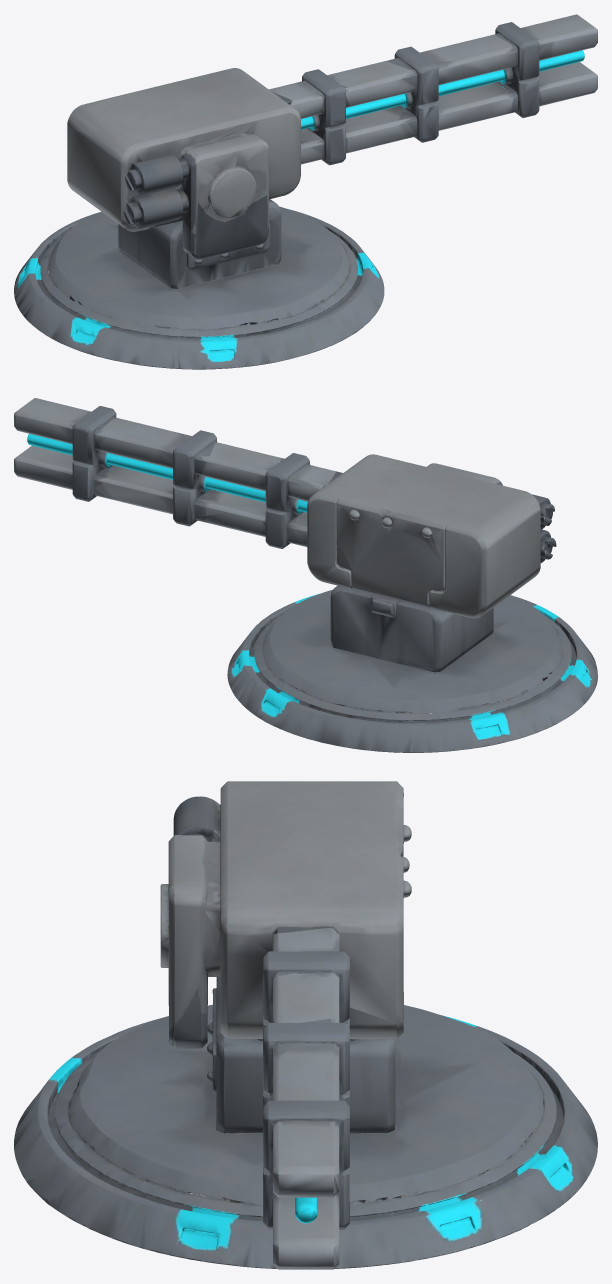
Rendered from town-railgun-full.glb.
3 views of the same model, one above another, from view 1: azimuth 30°, elevation 25°; view 2: azimuth 150°, elevation 25°; view 3: azimuth 270°, elevation 25° (orthographic). The views are drawn at different scales.
Visible parts, largest first — view 1: town-railgun-full; view 2: town-railgun-full; view 3: town-railgun-full.
Boxes of the visible parts, x1,y1,x2,y2 form: town-railgun-full: [14, 14, 597, 369]; town-railgun-full: [14, 398, 597, 752]; town-railgun-full: [14, 781, 597, 1269].
Size of the model in its own units: 4.81 by 1.56 by 2.8.
1 material, 1 textured.
